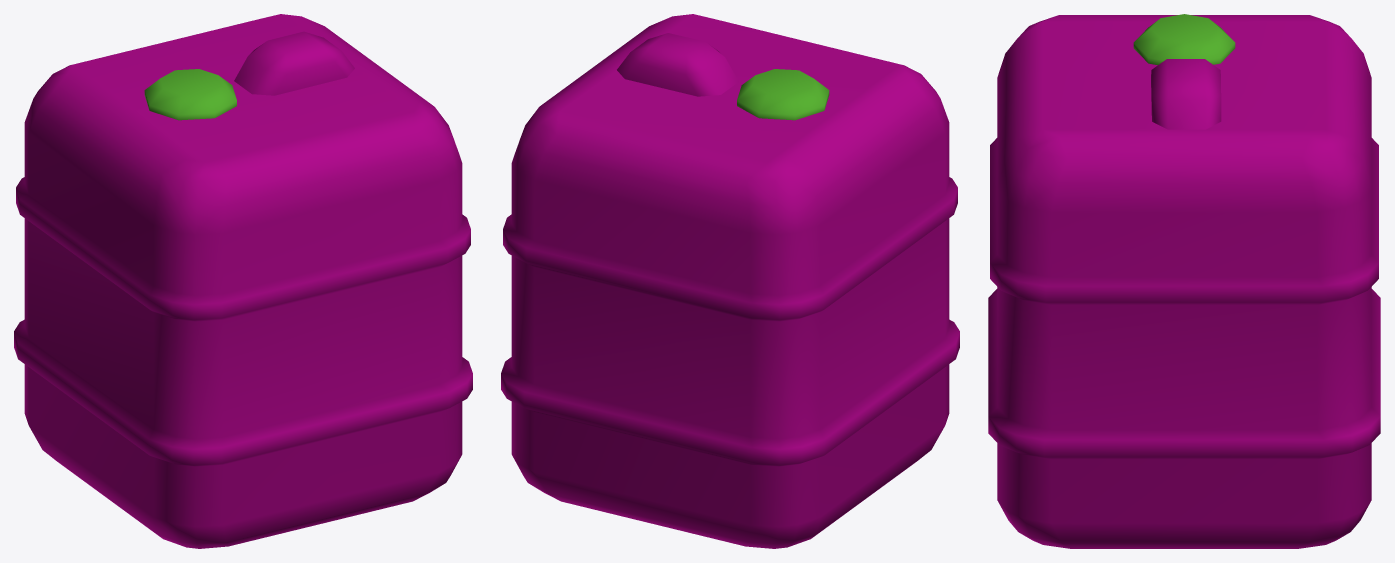
Rendered from Cannister.fbx.
3 views of the same model, side by side, from view 1: azimuth 30°, elevation 25°; view 2: azimuth 150°, elevation 25°; view 3: azimuth 270°, elevation 25° (orthographic). The views are drawn at different scales.
Parts seen in each view (by area): view 1: Cannister; view 2: Cannister; view 3: Cannister.
Part boxes in pixels (x1,y1,x2,y2): Cannister: [14, 14, 472, 548]; Cannister: [501, 14, 959, 548]; Cannister: [988, 14, 1380, 548].
Bounding box in the file's own units: 59.76 × 75.35 × 59.76.
